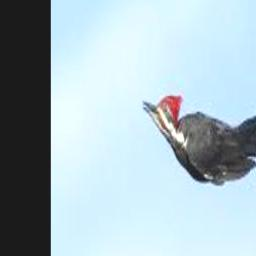Woodpecker: (143, 94, 256, 182)
